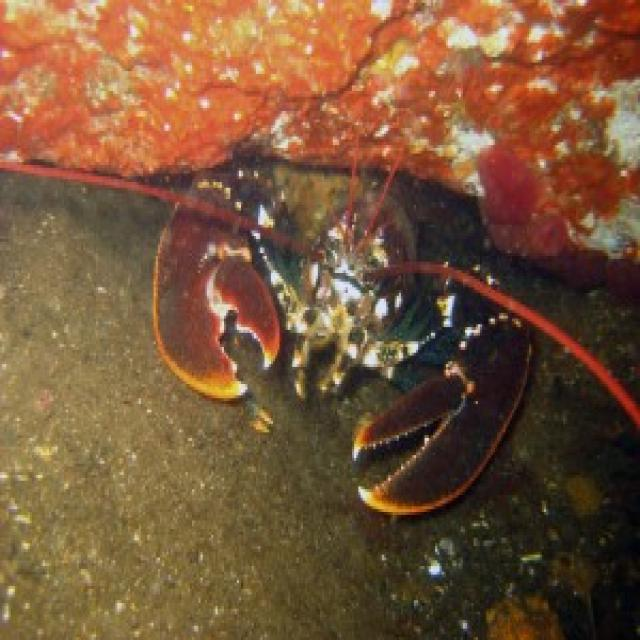lobsters: (96, 66, 567, 562)
